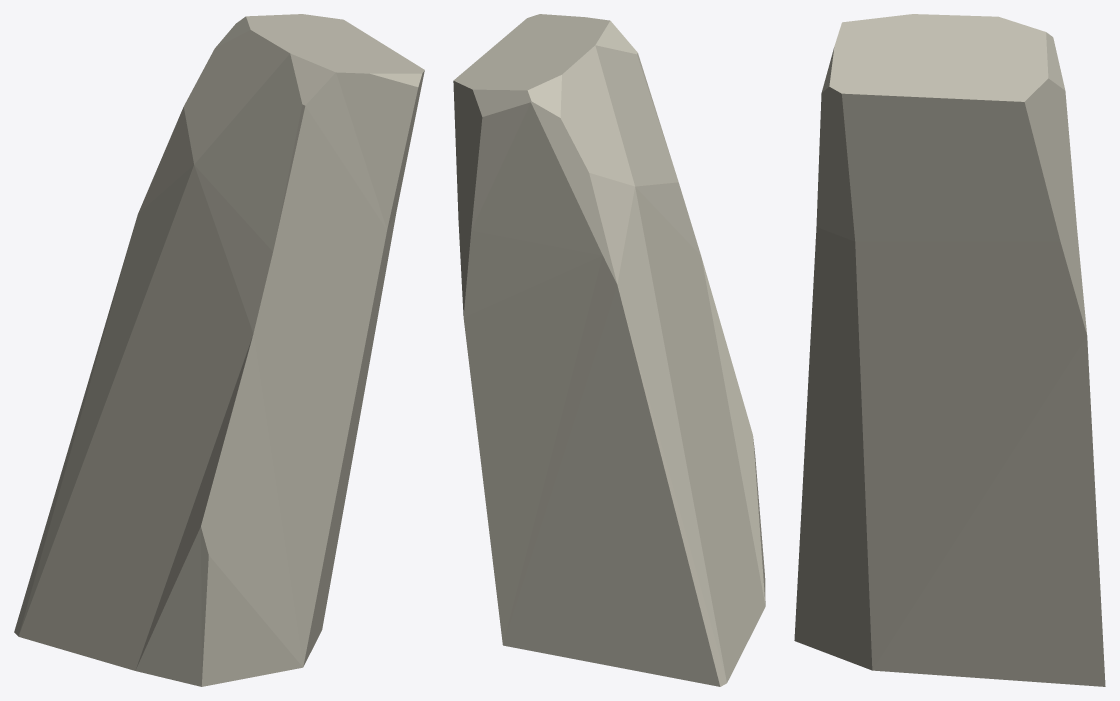
The model's file is Rock_Square_l_08.fbx.
The picture shows the model from 3 angles, left to right: view 1: azimuth 30°, elevation 25°; view 2: azimuth 150°, elevation 25°; view 3: azimuth 270°, elevation 25°; orthographic projection. The views are drawn at different scales.
Visible parts, largest first — view 1: Rock_Square_l_08; view 2: Rock_Square_l_08; view 3: Rock_Square_l_08.
Part boxes in pixels (x1=…): Rock_Square_l_08: x1=14, y1=14, x2=424, y2=686; Rock_Square_l_08: x1=453, y1=14, x2=765, y2=686; Rock_Square_l_08: x1=794, y1=14, x2=1105, y2=686.
Bounding box in the file's own units: 2.2 × 3.94 × 1.67.
